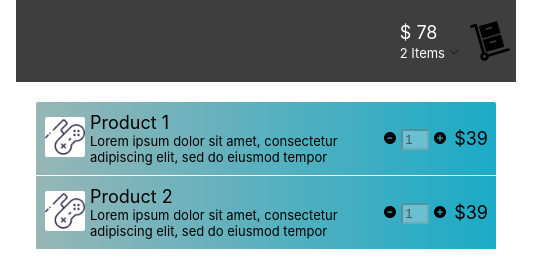
Scenario: Header component › hides component with current items in cart on window click
The image size is (533, 266).
Click the button with test id "cart-items-button" at point(452, 52), box [445,42,460,60]
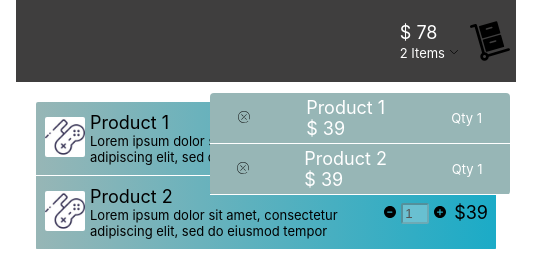
Expected: the element with test id "cart-items-list" is shown, [210,92,510,194]
Click the text "$ 78" at point(419, 32), box [400,22,438,42]
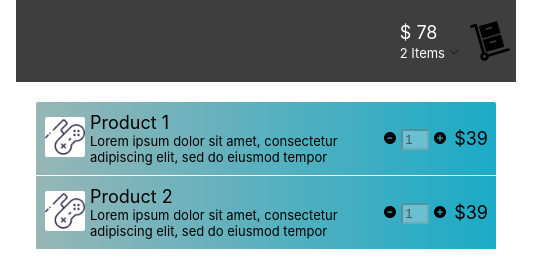
Expected: the element with test id "cart-items-list" is gone
